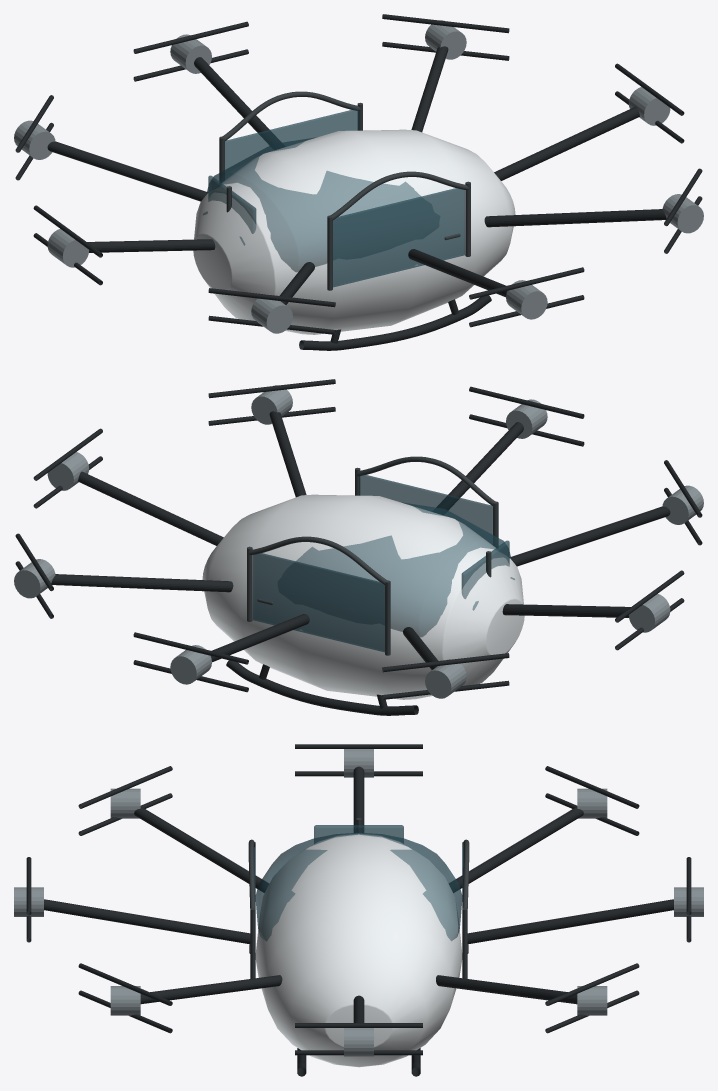
Rendered from evtol-aircraft.glb.
The picture shows the model from 3 angles, top to bottom: view 1: azimuth 30°, elevation 25°; view 2: azimuth 150°, elevation 25°; view 3: azimuth 270°, elevation 25°; orthographic projection.
Visible parts, largest first — view 1: EH216 cabin, gullwing side door glass.001, EH216 panoramic canopy, gullwing side door glass, radial carbon arm.001, landing skid.001, radial carbon arm.005, radial carbon arm, radial carbon arm.004, radial carbon arm.006, radial carbon arm.002, Cylinder.003 (+17 smaller); view 2: EH216 cabin, gullwing side door glass, EH216 panoramic canopy, gullwing side door glass.001, radial carbon arm.007, landing skid, radial carbon arm.003, radial carbon arm, radial carbon arm.004, radial carbon arm.002, radial carbon arm.006, Cylinder.005 (+17 smaller); view 3: EH216 cabin, EH216 panoramic canopy, radial carbon arm.002, radial carbon arm.006, radial carbon arm.003, radial carbon arm.005, radial carbon arm.007, radial carbon arm.001, forward panoramic windscreen, Cylinder, Cylinder.001, Cylinder.007 (+14 smaller).
Boxes of the visible parts, x1=… form: EH216 cabin: x1=193, y1=129, x2=515, y2=334; gullwing side door glass.001: x1=333, y1=188, x2=464, y2=287; EH216 panoramic canopy: x1=203, y1=137, x2=421, y2=272; gullwing side door glass: x1=224, y1=109, x2=358, y2=179; radial carbon arm.001: x1=484, y1=209, x2=666, y2=227; landing skid.001: x1=299, y1=295, x2=491, y2=350; radial carbon arm.005: x1=47, y1=141, x2=207, y2=201; radial carbon arm: x1=494, y1=106, x2=639, y2=180; radial carbon arm.004: x1=87, y1=239, x2=215, y2=252; radial carbon arm.006: x1=194, y1=57, x2=280, y2=145; radial carbon arm.002: x1=408, y1=249, x2=507, y2=297; Cylinder.003: x1=251, y1=294, x2=292, y2=333; EH216 cabin: x1=202, y1=494, x2=524, y2=699; gullwing side door glass: x1=253, y1=553, x2=384, y2=652; EH216 panoramic canopy: x1=296, y1=502, x2=514, y2=637; gullwing side door glass.001: x1=359, y1=474, x2=493, y2=544; radial carbon arm.007: x1=51, y1=574, x2=233, y2=592; landing skid: x1=226, y1=660, x2=418, y2=715; radial carbon arm.003: x1=510, y1=506, x2=670, y2=566; radial carbon arm: x1=78, y1=471, x2=223, y2=545; radial carbon arm.004: x1=502, y1=604, x2=630, y2=617; radial carbon arm.002: x1=437, y1=422, x2=523, y2=510; radial carbon arm.006: x1=210, y1=614, x2=309, y2=662; Cylinder.005: x1=425, y1=659, x2=466, y2=698; EH216 cabin: x1=255, y1=833, x2=462, y2=1067; EH216 panoramic canopy: x1=255, y1=832, x2=462, y2=941; radial carbon arm.002: x1=44, y1=899, x2=250, y2=944; radial carbon arm.006: x1=467, y1=899, x2=673, y2=944; radial carbon arm.003: x1=134, y1=806, x2=268, y2=892; radial carbon arm.005: x1=449, y1=806, x2=583, y2=892; radial carbon arm.007: x1=436, y1=975, x2=577, y2=1004; radial carbon arm.001: x1=140, y1=975, x2=282, y2=1004; forward panoramic windscreen: x1=314, y1=825, x2=403, y2=843; Cylinder: x1=344, y1=1028, x2=373, y2=1056; Cylinder.001: x1=110, y1=986, x2=140, y2=1015; Cylinder.007: x1=577, y1=986, x2=607, y2=1015.
Size of the model in its own units: 5.06 by 1.53 by 5.06.
